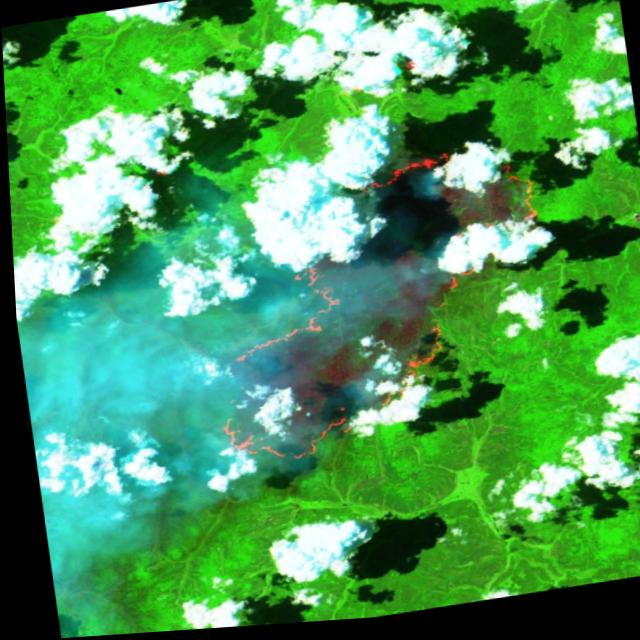fire: (178, 143, 567, 481)
